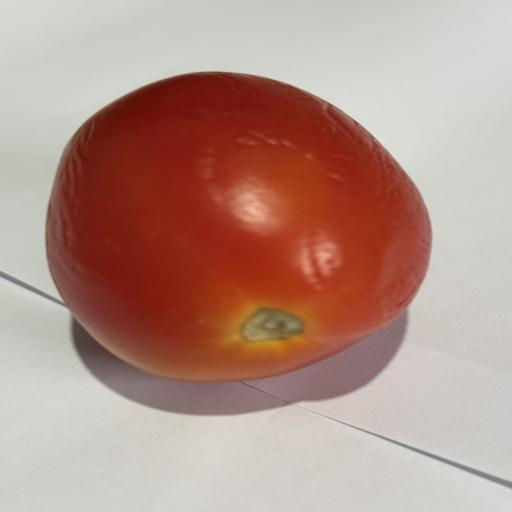spoiled: (46, 72, 431, 381)
